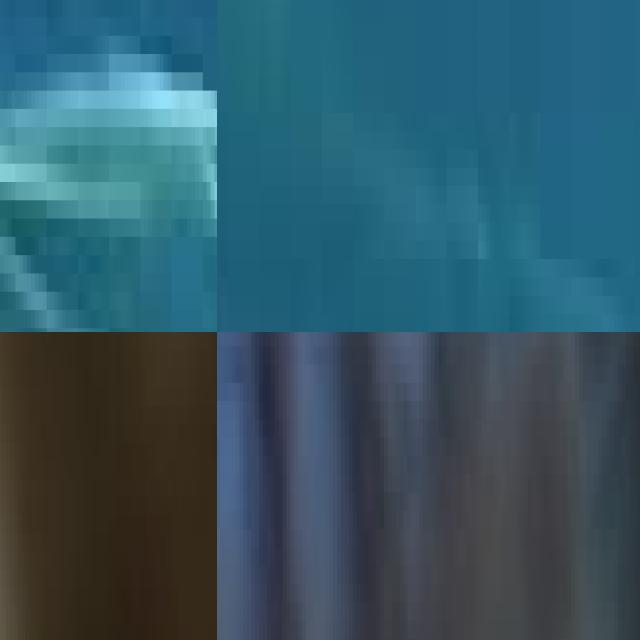fish: (0, 0, 217, 332)
